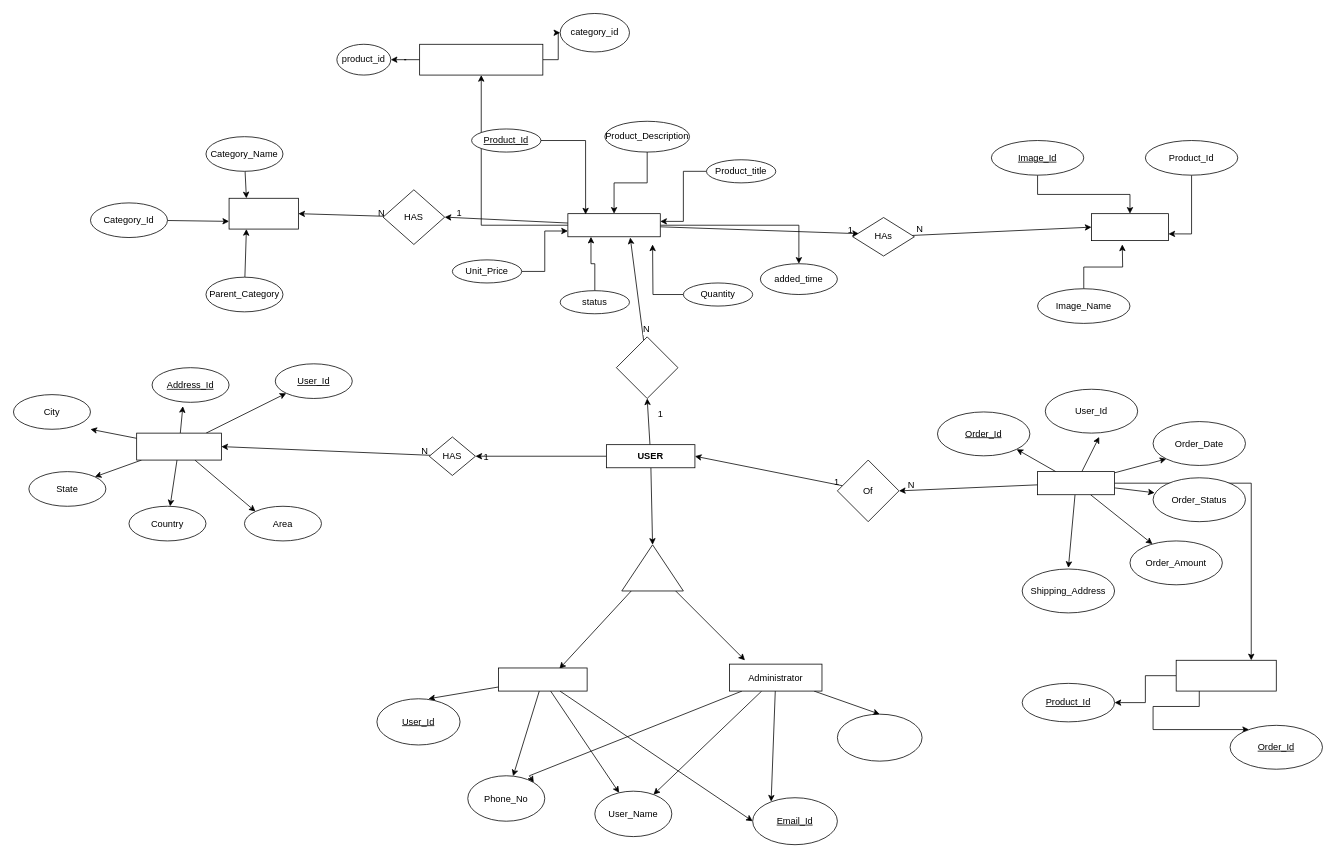
Some shapes in this 1336 by 859 pixel diagram are drawn without their labels. Each missing label, with the centre of its shape:
"ADDRESS" belongs at pixel 178 446.
"Adminsitrator_Id" belongs at pixel 879 737.
"Can_ Select" belongs at pixel 647 367.
"CATEGORY" belongs at pixel 263 213.
"IMAGE" belongs at pixel 1129 227.
"Is a" belongs at pixel 652 567.
"ORDERS" belongs at pixel 1076 483.
"PRODUCT" belongs at pixel 613 225.
"product_category" belongs at pixel 481 59.
"products_in_order" belongs at pixel 1225 675.
"SHOPPER" belongs at pixel 542 679.
